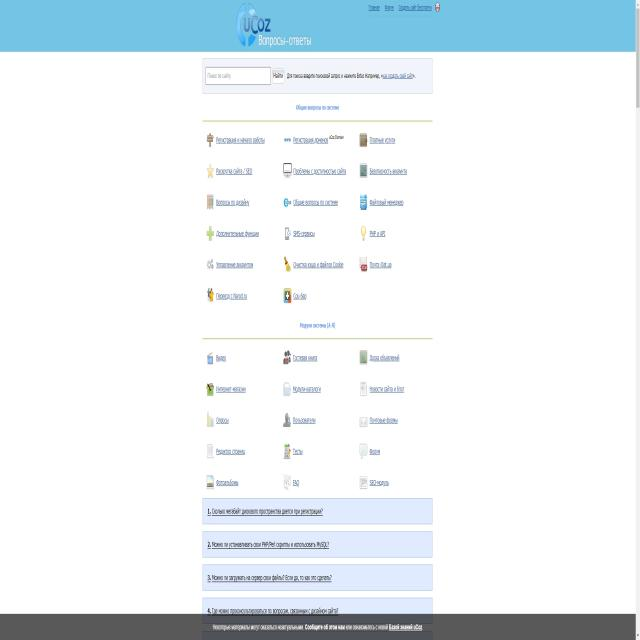menu-bar: (368, 2, 440, 15)
search: (205, 62, 272, 86)
